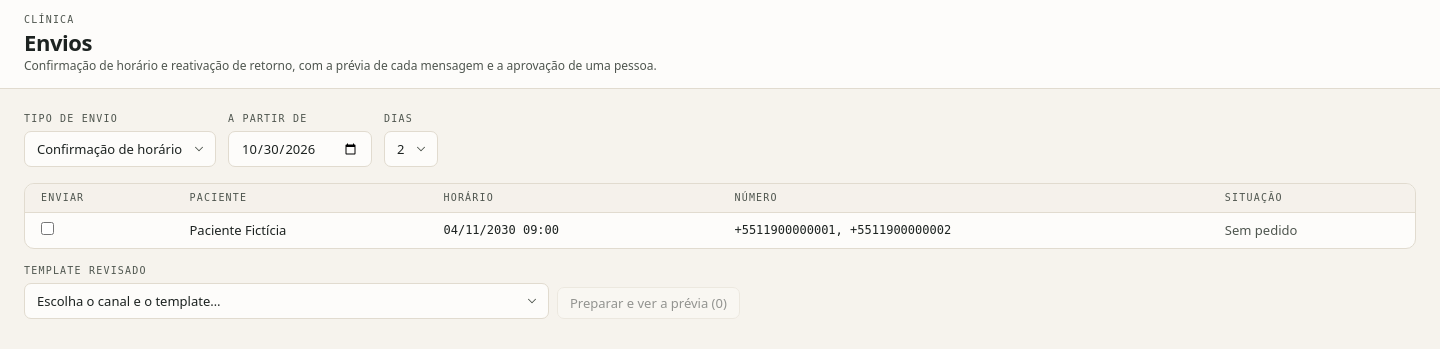
envios: candidatos, prévia e aprovação › trocar o filtro limpa a escolha: a lista nova não herda a de antes
Click the checkbox named "Escolher Paciente Fictícia, 04/11/2030 09:00" at x=48, y=229, box left=41, top=222, right=54, bottom=235
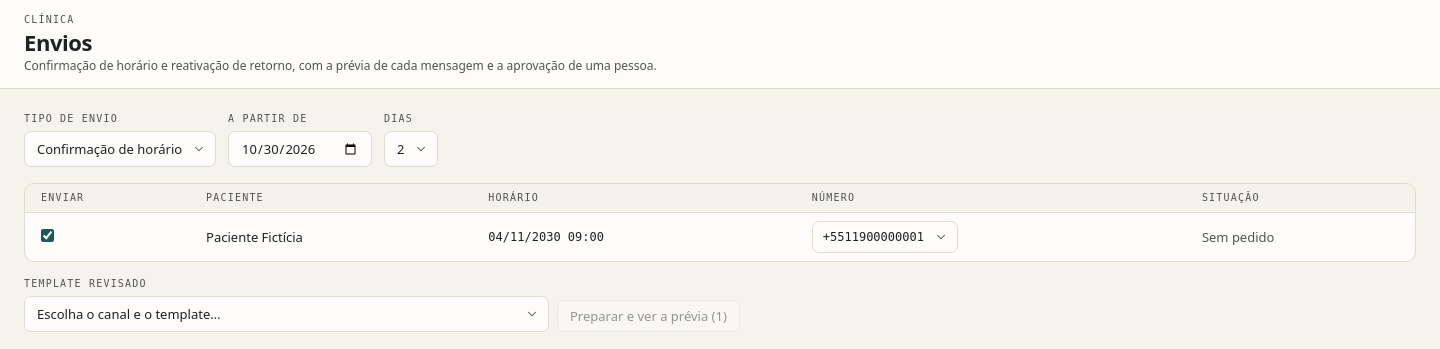
Expected: the button "Preparar e ver a prévia (1)" is shown, left=557, top=300, right=740, bottom=332
Select "7" in the dropdown labelled "Dias" at x=411, y=149, box left=384, top=131, right=438, bottom=167
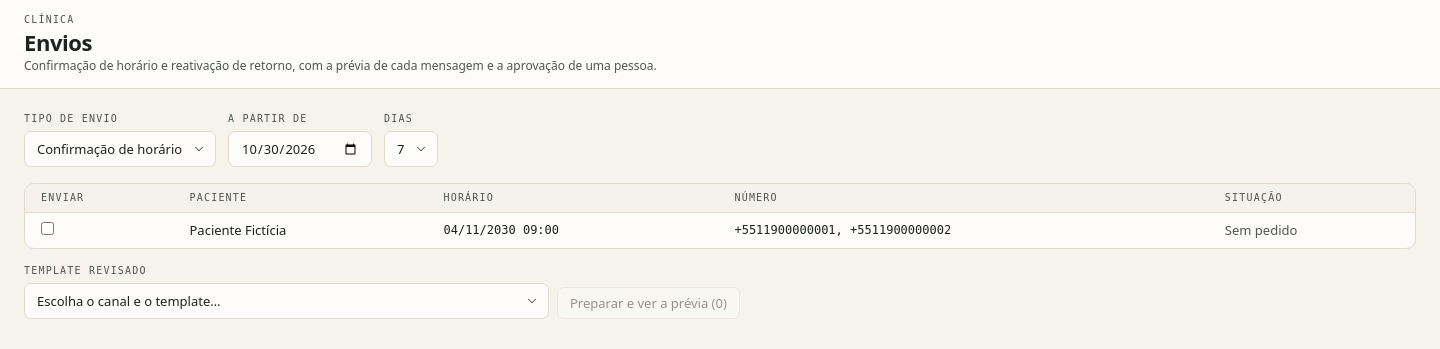
Expected: the button "Preparar e ver a prévia (0)" is shown, left=557, top=287, right=740, bottom=319
